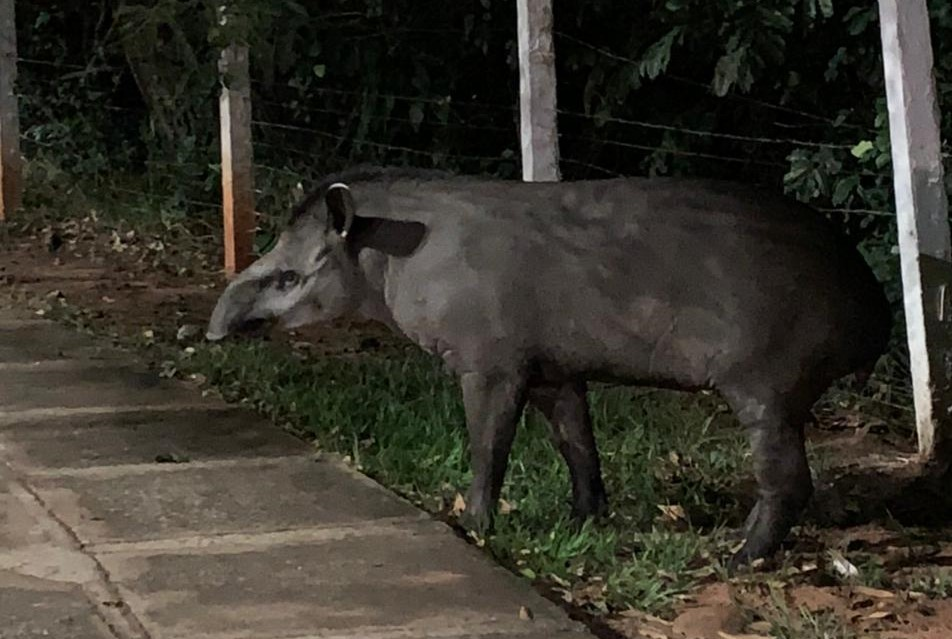Anta: (183, 150, 906, 596)
